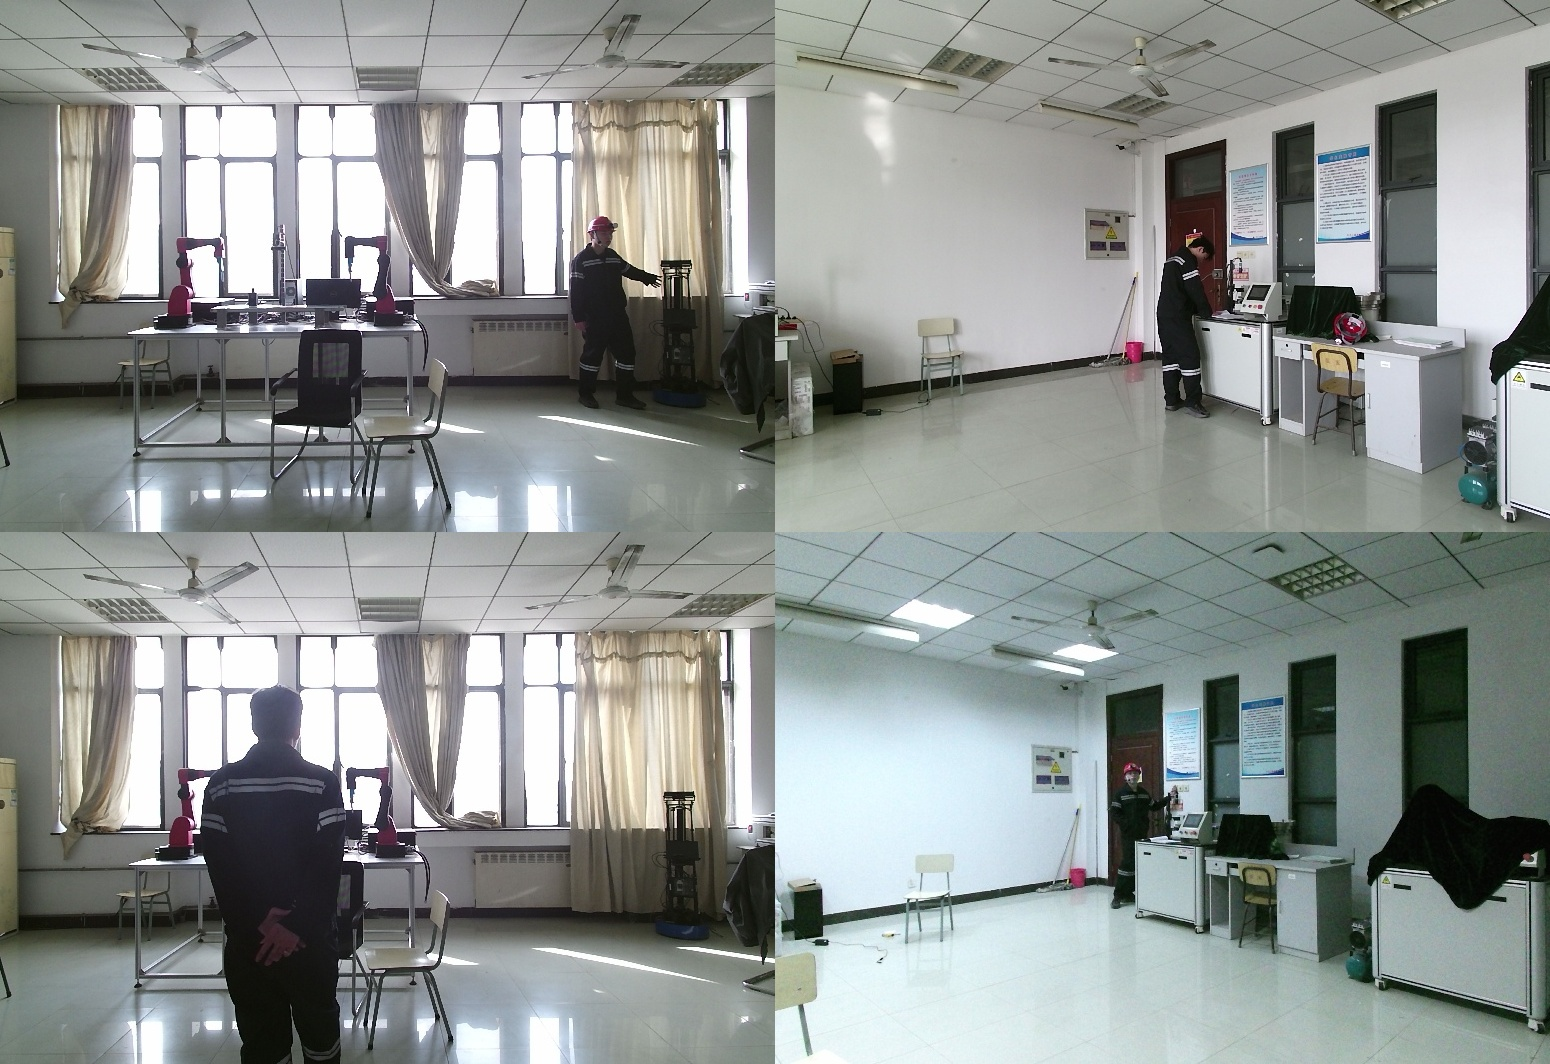person: (201, 686, 362, 1064), (568, 215, 662, 415), (1159, 239, 1218, 420), (1107, 763, 1170, 912)
